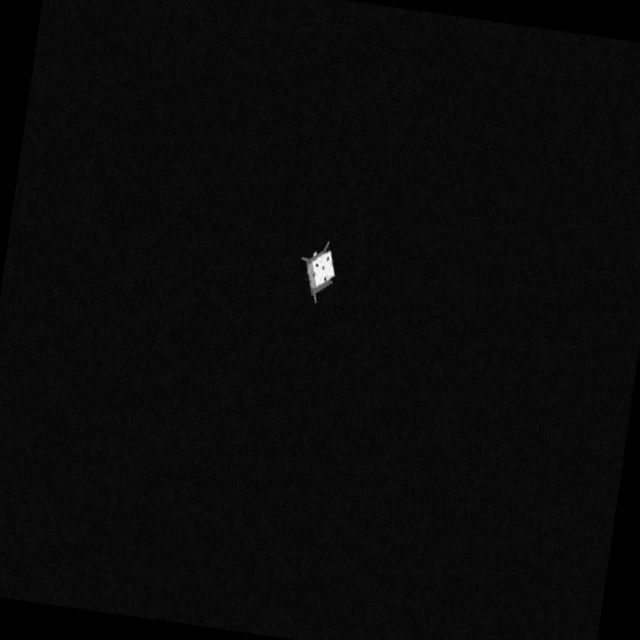satellite: (282, 235, 347, 310)
